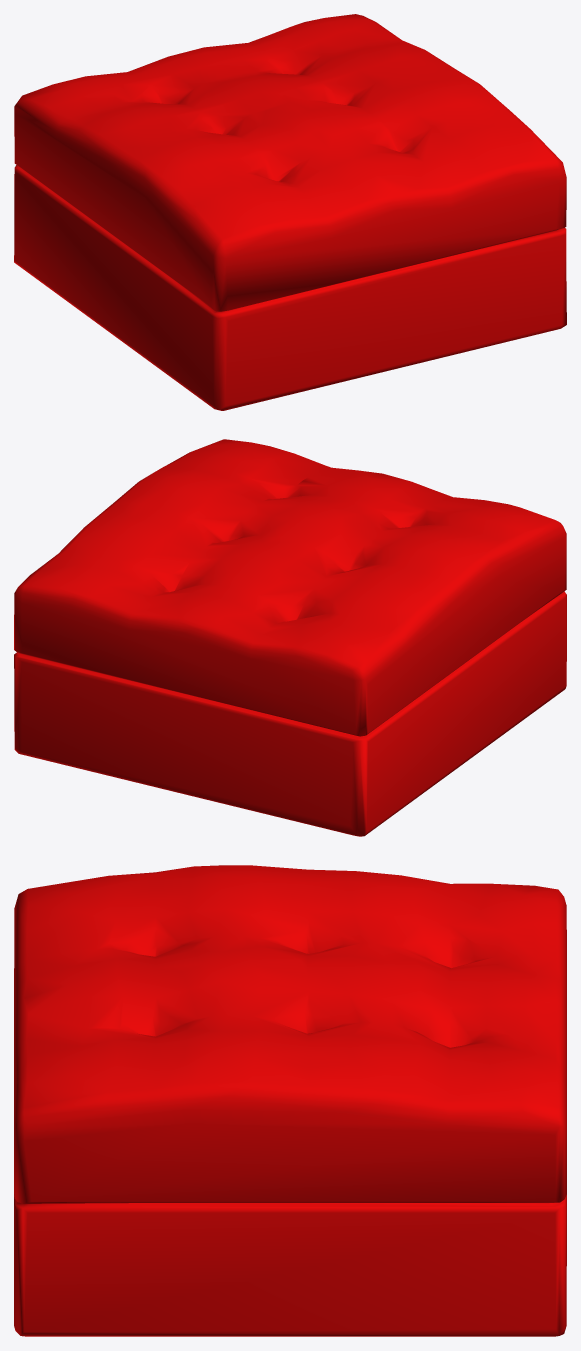
Rendered from ottomans_grp.fbx.
3 renders of one model, top to bottom at view 1: azimuth 30°, elevation 25°; view 2: azimuth 150°, elevation 25°; view 3: azimuth 270°, elevation 25°, orthographic. The views are drawn at different scales.
Visible parts, largest first — view 1: ottoman_210; view 2: ottoman_210; view 3: ottoman_210.
Boxes of the visible parts, x1,y1,x2,y2 form: ottoman_210: [14, 14, 566, 410]; ottoman_210: [14, 439, 566, 836]; ottoman_210: [14, 865, 566, 1336].
Size of the model in its own units: 82.78 by 43.27 by 83.93.
